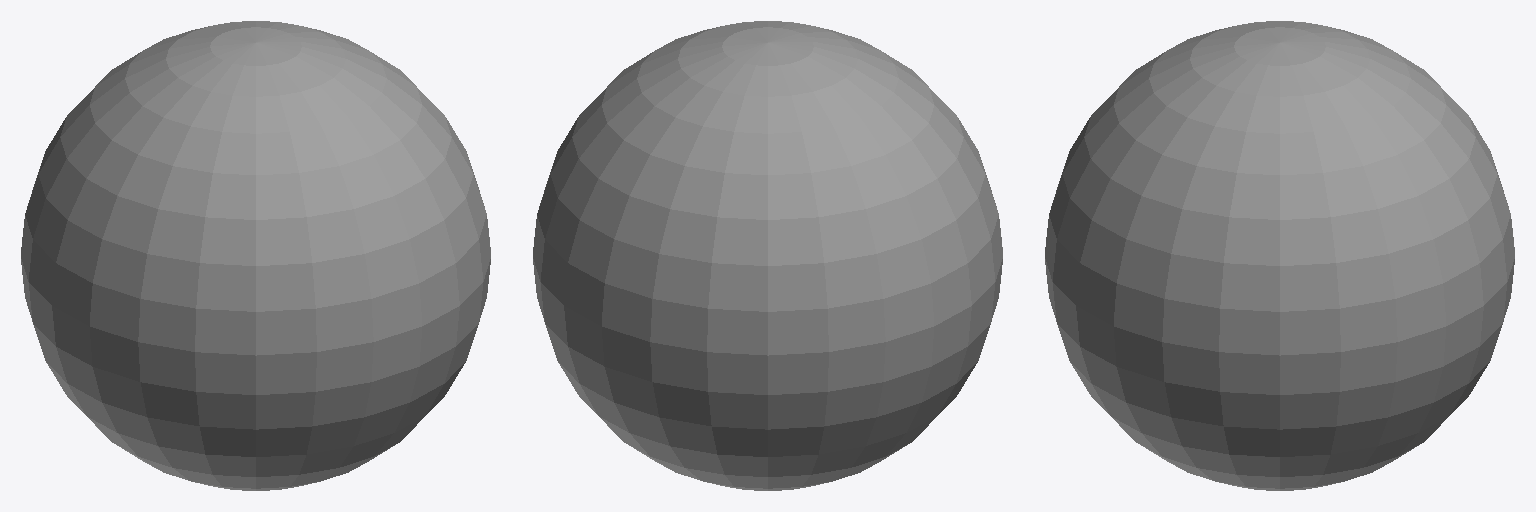
Rendered from nasa_earth.obj.
3 renders of one model, left to right at view 1: azimuth 30°, elevation 25°; view 2: azimuth 150°, elevation 25°; view 3: azimuth 270°, elevation 25°, orthographic.
Visible parts, largest first — view 1: Sphere; view 2: Sphere; view 3: Sphere.
Part boxes in pixels (left/top/right/bottom): Sphere: left=21, top=21, right=490, bottom=490; Sphere: left=533, top=21, right=1002, bottom=490; Sphere: left=1045, top=21, right=1514, bottom=490.
Size of the model in its own units: 2 by 2 by 2.